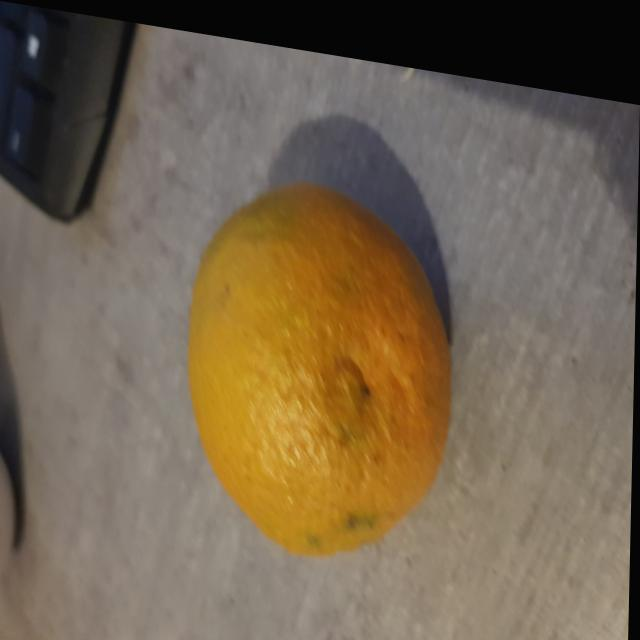Orange: (190, 170, 456, 547)
